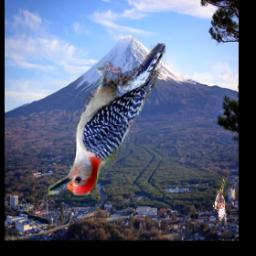Sparrow: (212, 178, 227, 226)
Woodpecker: (48, 44, 165, 197)
